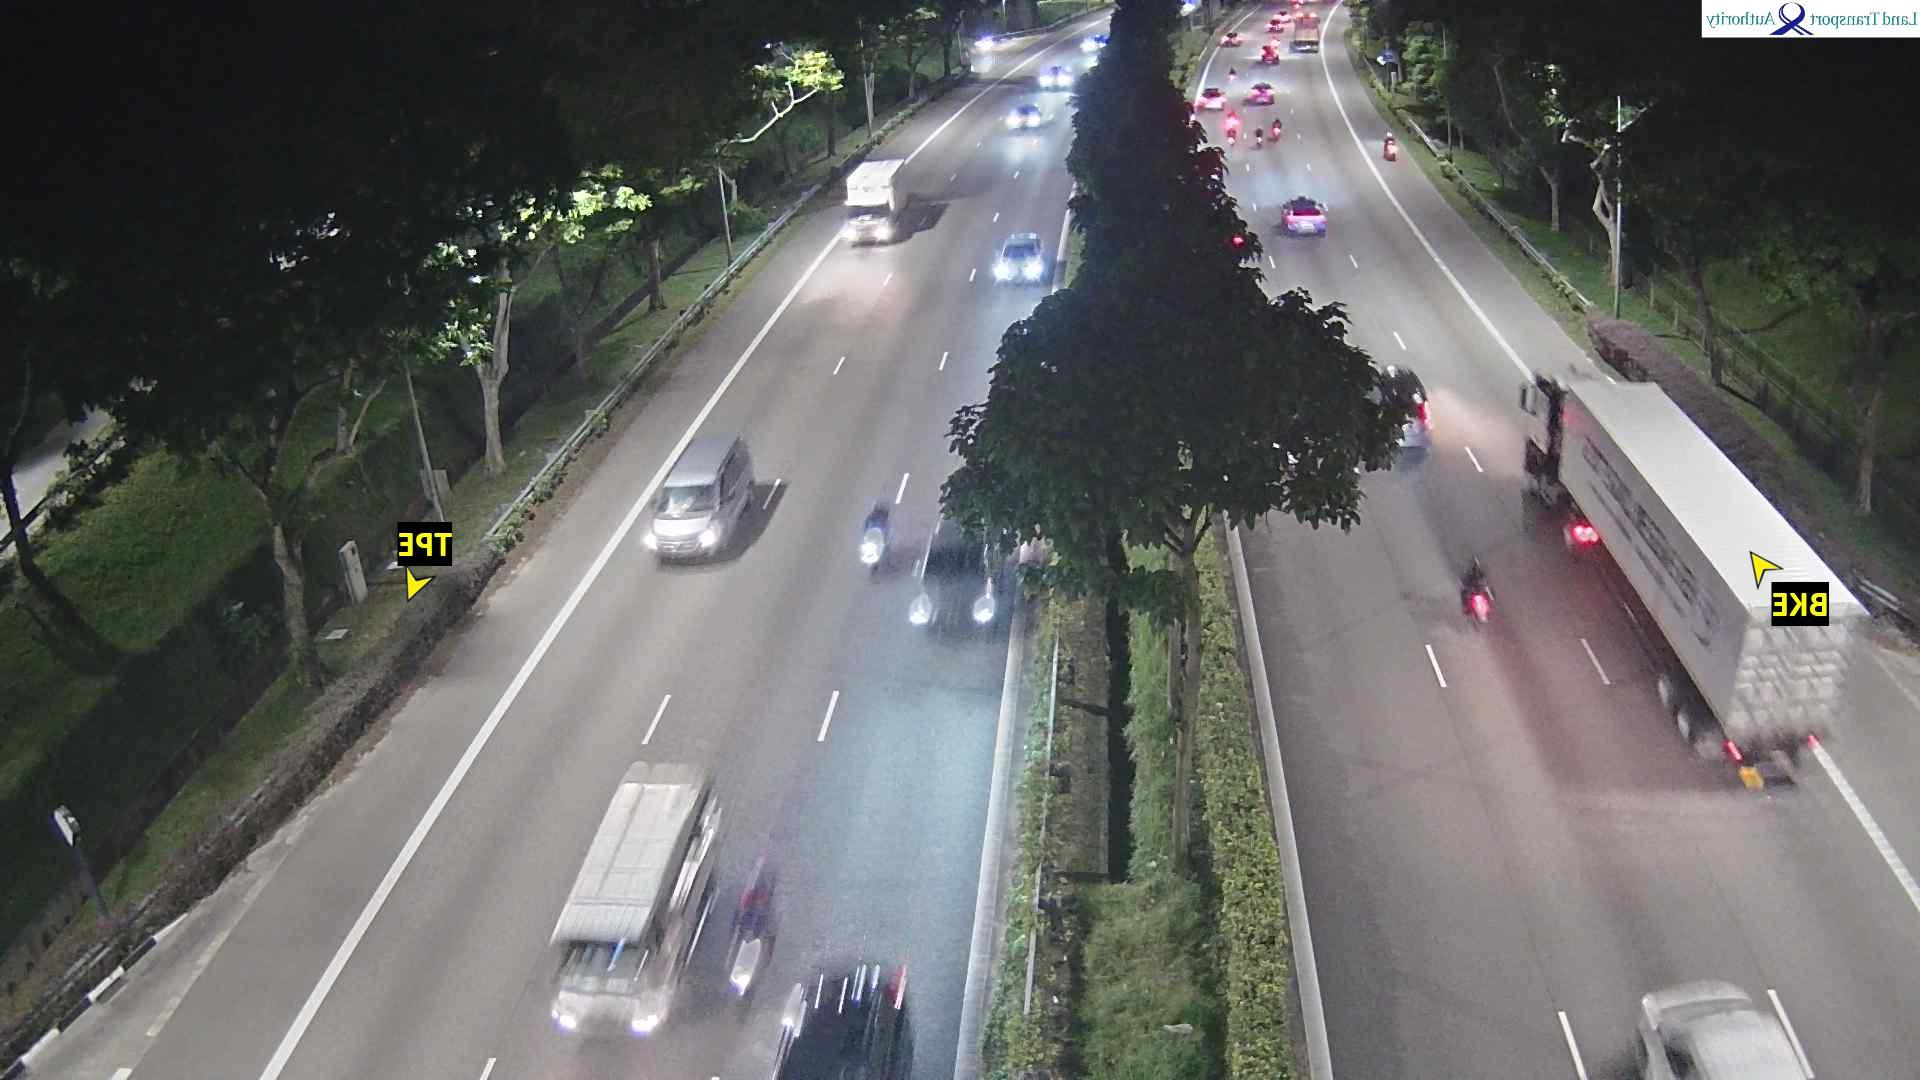incoming: (550, 928, 659, 1047), (903, 543, 994, 639), (636, 478, 739, 557), (836, 195, 894, 249), (986, 243, 1044, 287), (1001, 101, 1048, 135), (1033, 58, 1072, 90), (855, 531, 884, 572)
